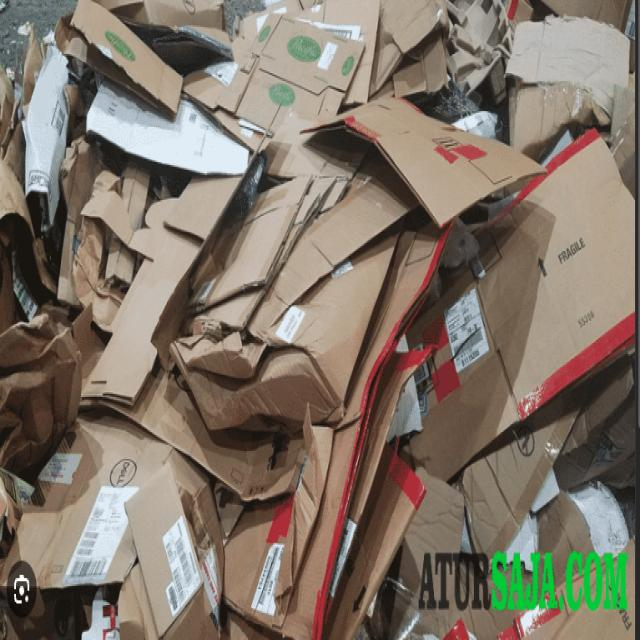Kardus: (2, 1, 633, 636)
